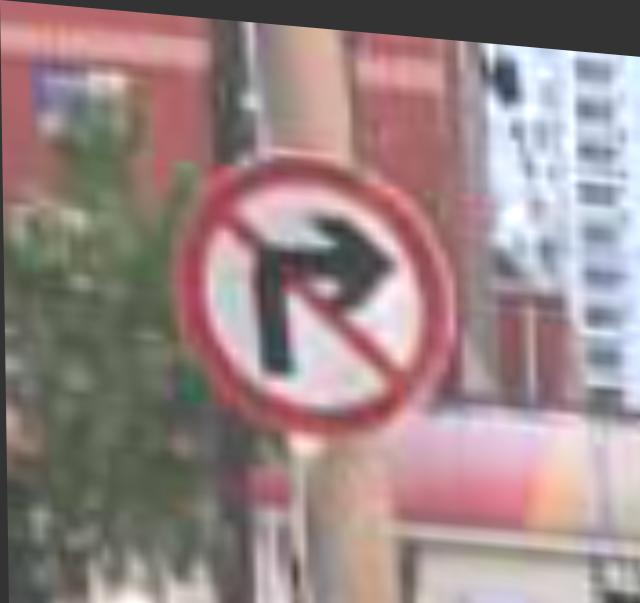not_turn_right: (169, 139, 467, 447)
